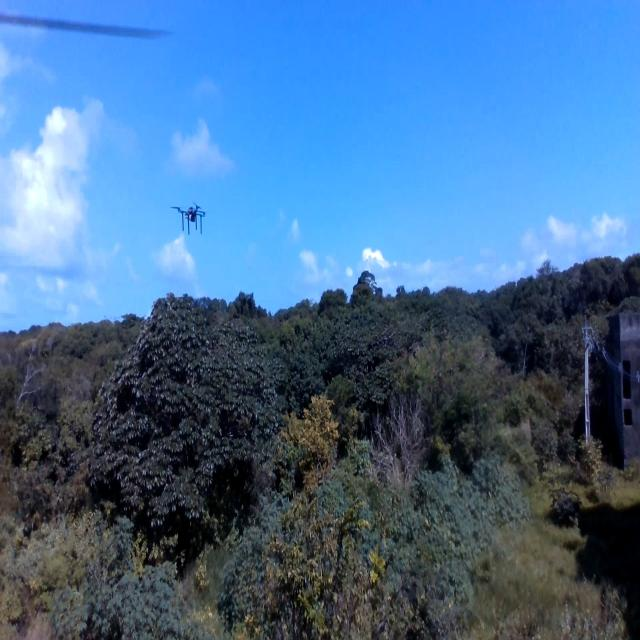-uav-: (168, 189, 214, 243)
